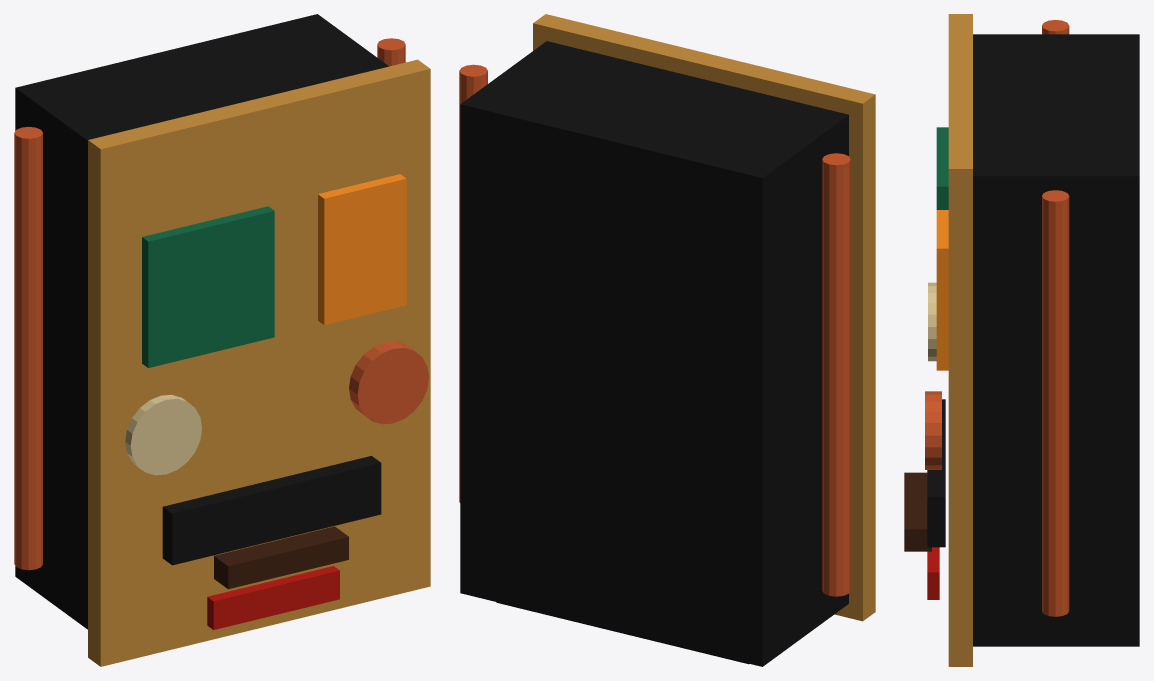
File: V0135WA_005_AmmoCabinetVendingProp.obj
3 views of the same model, side by side, from view 1: azimuth 30°, elevation 25°; view 2: azimuth 150°, elevation 25°; view 3: azimuth 270°, elevation 25° (orthographic). The views are drawn at different scales.
Parts seen in each view (by area): view 1: aged_brass_front_frame, cabinet_blackened_iron_shell, route_green_stock_window, dispense_slot_blackened, left_pressure_pipe, amber_glass_low_pressure_window, coin_valve_copper_wheel, walnut_pull_handle, pressure_gauge_cabinet, warning_red_empty_flag, right_pressure_pipe; view 2: cabinet_blackened_iron_shell, aged_brass_front_frame, left_pressure_pipe, right_pressure_pipe; view 3: cabinet_blackened_iron_shell, aged_brass_front_frame, right_pressure_pipe, amber_glass_low_pressure_window, walnut_pull_handle, dispense_slot_blackened, coin_valve_copper_wheel, route_green_stock_window, pressure_gauge_cabinet, warning_red_empty_flag, left_pressure_pipe.
Part boxes in pixels (box(x1,y1,x2,y2)): aged_brass_front_frame: box(88, 59, 430, 666); cabinet_blackened_iron_shell: box(15, 14, 388, 629); route_green_stock_window: box(142, 206, 274, 367); dispense_slot_blackened: box(162, 456, 381, 565); left_pressure_pipe: box(14, 126, 42, 570); amber_glass_low_pressure_window: box(318, 174, 406, 325); coin_valve_copper_wheel: box(349, 341, 428, 424); walnut_pull_handle: box(214, 526, 348, 589); pressure_gauge_cabinet: box(125, 394, 201, 475); warning_red_empty_flag: box(207, 566, 339, 629); right_pressure_pipe: box(377, 38, 405, 66); cabinet_blackened_iron_shell: box(460, 41, 848, 666); aged_brass_front_frame: box(533, 14, 875, 621); left_pressure_pipe: box(822, 153, 850, 596); right_pressure_pipe: box(459, 64, 487, 502); cabinet_blackened_iron_shell: box(973, 34, 1139, 646); aged_brass_front_frame: box(948, 14, 972, 666); right_pressure_pipe: box(1042, 190, 1069, 616); amber_glass_low_pressure_window: box(936, 210, 948, 370); walnut_pull_handle: box(904, 472, 931, 551); dispense_slot_blackened: box(927, 399, 945, 547); coin_valve_copper_wheel: box(925, 391, 941, 469); route_green_stock_window: box(936, 127, 948, 209); pressure_gauge_cabinet: box(928, 282, 936, 361); warning_red_empty_flag: box(927, 547, 939, 599); left_pressure_pipe: box(1042, 20, 1069, 34).
Bounding box in the file's own units: 1.41 × 1.8 × 0.77.
